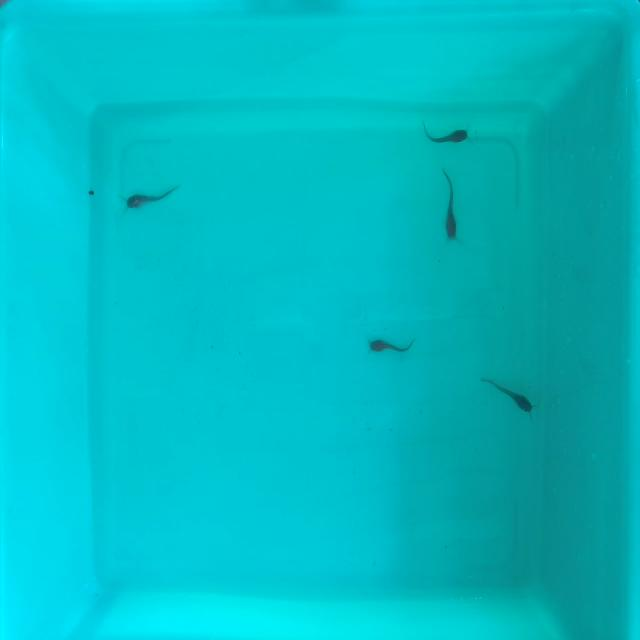lele: (479, 378, 533, 412), (125, 183, 178, 210), (443, 168, 458, 241), (416, 128, 470, 148), (368, 337, 418, 355)
